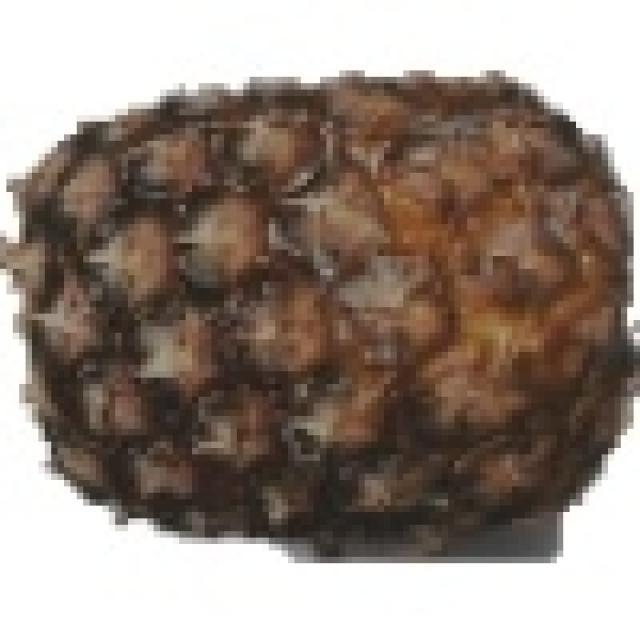pineapple: (6, 64, 621, 538)
